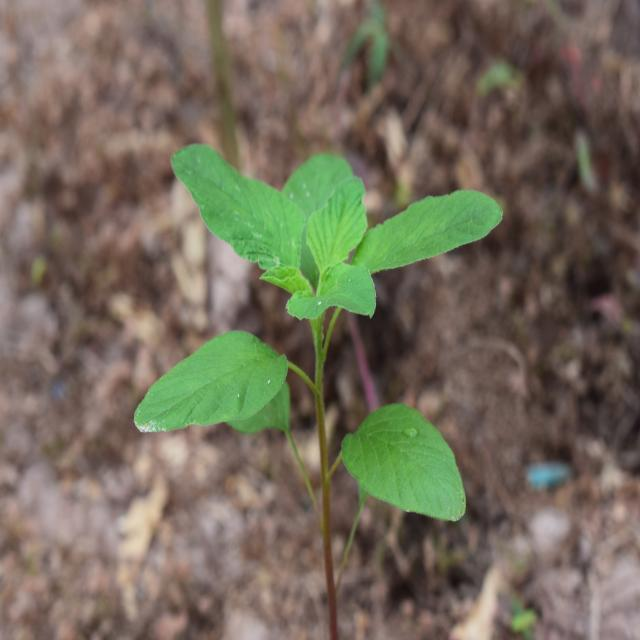pigweed: (133, 105, 466, 532)
